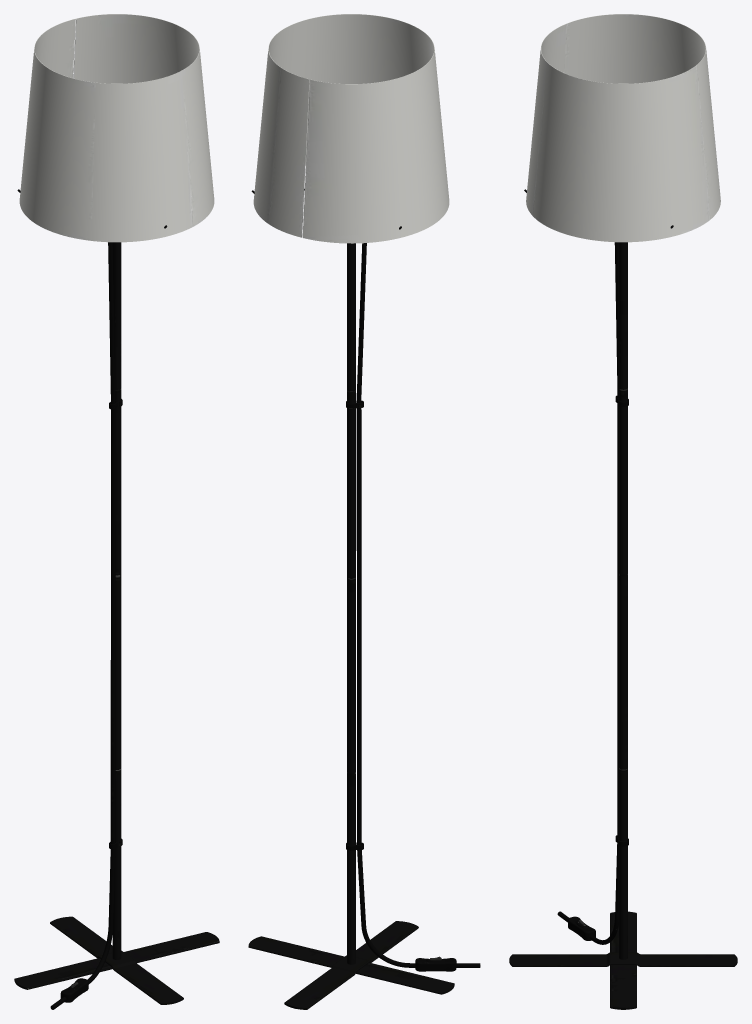
The picture shows the model from 3 angles, left to right: view 1: azimuth 30°, elevation 25°; view 2: azimuth 150°, elevation 25°; view 3: azimuth 270°, elevation 25°; orthographic projection.
Visible parts, largest first — view 1: 10430368-BARLAST001; view 2: 10430368-BARLAST001; view 3: 10430368-BARLAST001.
Boxes of the visible parts, left/top/right/bottom form: 10430368-BARLAST001: left=14, top=14, right=219, bottom=1009; 10430368-BARLAST001: left=248, top=14, right=480, bottom=1009; 10430368-BARLAST001: left=509, top=14, right=737, bottom=1009.
Bounding box in the file's own units: 0.34 × 1.5 × 0.34.
1 material, 1 textured.
